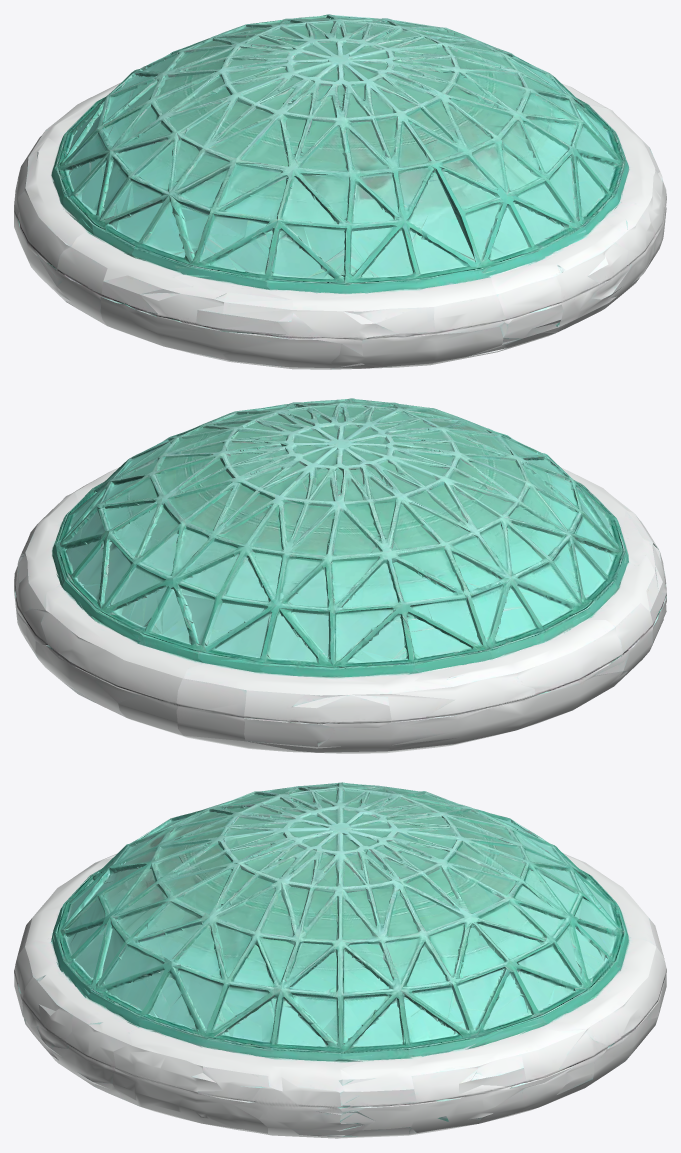
File: dome.glb
3 views of the same model, one above another, from view 1: azimuth 30°, elevation 25°; view 2: azimuth 150°, elevation 25°; view 3: azimuth 270°, elevation 25° (orthographic).
Size of the model in its own units: 1.9 by 0.6132 by 1.9.
1 material, 1 textured.
